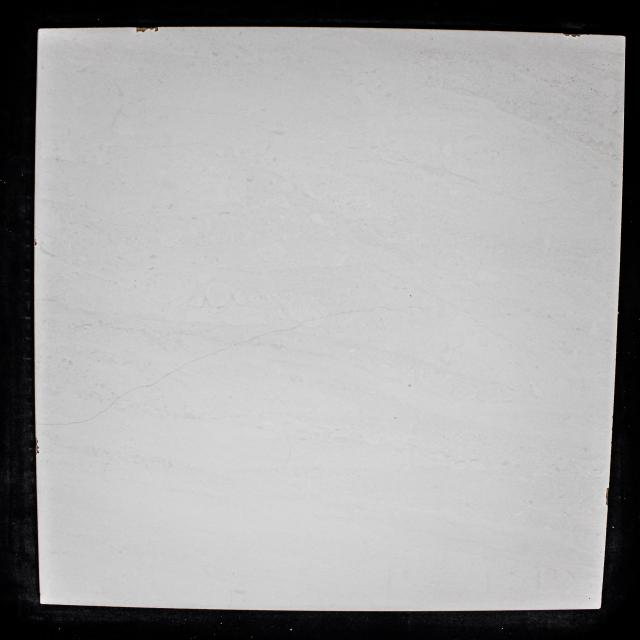edge-chipping: (136, 27, 158, 32), (35, 437, 40, 455), (605, 487, 609, 505), (563, 33, 581, 37)
hole: (34, 238, 37, 246)
line: (177, 340, 247, 371), (247, 316, 329, 340), (36, 402, 114, 426), (115, 371, 177, 401), (329, 306, 418, 316)
